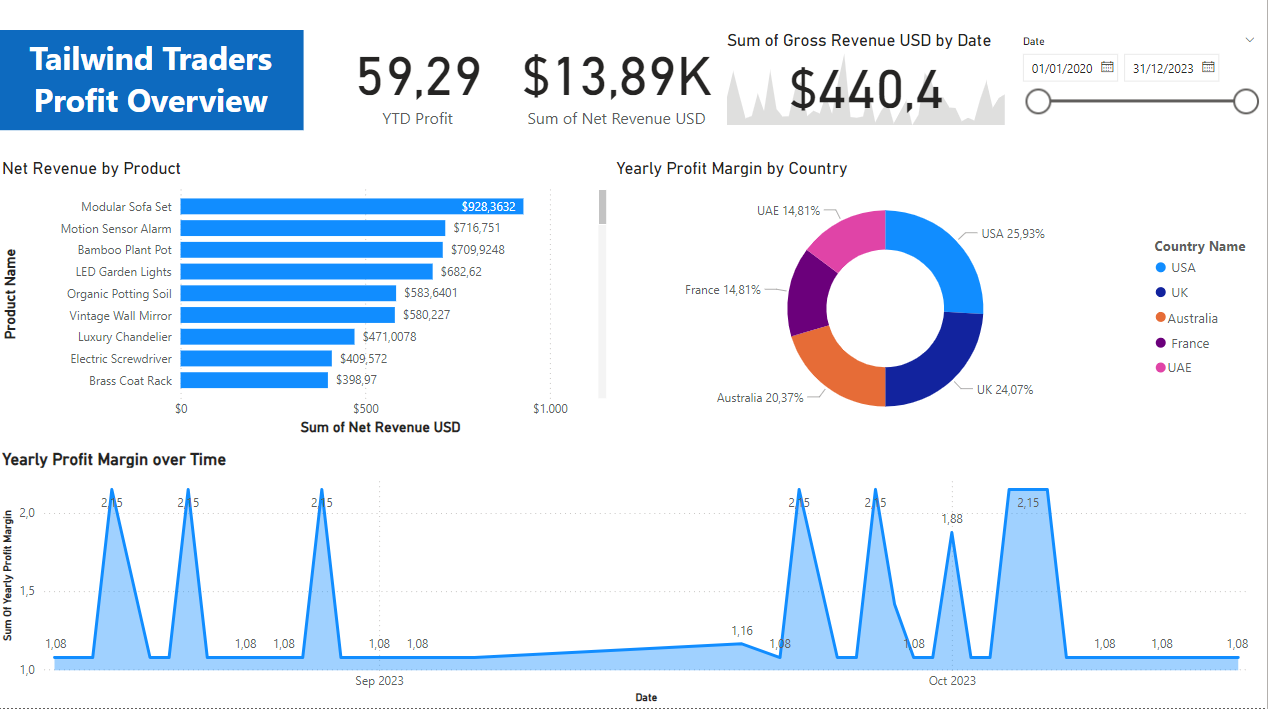

The page's visual inventory and layout, read from the dashboard file:
{"tool":"powerbi","page":{"name":"Profit Overview","canvas":[1280,720],"ordinal":1},"visuals":[{"type":"clusteredBarChart","title":"Net Revenue by Product","fields":{"Category":["Sales in USD.Product Name"],"Y":["Sum(Sales in USD.Net Revenue USD)"]},"box":[0,165.8,619.1,284.2],"z":0},{"type":"donutChart","title":"Yearly Profit Margin by Country","fields":{"Category":["Sales in USD.Country Name"],"Y":["CountNonNull(Sales in USD.Yearly Profit Margin)"]},"box":[619.1,165.8,660.9,284.2],"z":1000},{"type":"areaChart","title":"Yearly Profit Margin over Time","fields":{"Category":["CalendarTable.Date"],"Y":["Sales in USD.Sum Of Yearly Profit Margin"]},"box":[0,458.6,1280,261],"z":2000},{"type":"card","fields":{"Values":["Sales in USD.YTD Profit"]},"box":[329.6,36.3,188.5,100.8],"z":3000},{"type":"card","fields":{"Values":["Sum(Sales in USD.Net Revenue USD)"]},"box":[518,36.3,212.7,100.8],"z":4000},{"type":"kpi","fields":{"TrendLine":["CalendarTable.Date"],"Indicator":["Sum(Sales in USD.Gross Revenue USD)"]},"box":[730.7,36.3,290.3,100.8],"z":5000},{"type":"slicer","fields":{"Values":["CalendarTable.Date"]},"box":[1021,36.3,259,100.8],"z":6000},{"type":"textbox","box":[0,36.3,309.4,100.8],"z":7000}]}

Visuals, with their boxes in screenshot pixels (x1, y1, x2, y2), scaled from the page's 1280x720 canvas onto the 1268x709 screenshot:
"Net Revenue by Product" clusteredBarChart: (x1=0, y1=163, x2=613, y2=443)
"Yearly Profit Margin by Country" donutChart: (x1=613, y1=163, x2=1267, y2=443)
"Yearly Profit Margin over Time" areaChart: (x1=0, y1=452, x2=1267, y2=708)
card - Sales in USD.YTD Profit: (x1=327, y1=36, x2=513, y2=135)
card - Sum(Sales in USD.Net Revenue USD): (x1=513, y1=36, x2=724, y2=135)
kpi - CalendarTable.Date x Sum(Sales in USD.Gross Revenue USD): (x1=724, y1=36, x2=1011, y2=135)
slicer - CalendarTable.Date: (x1=1011, y1=36, x2=1267, y2=135)
textbox: (x1=0, y1=36, x2=306, y2=135)
